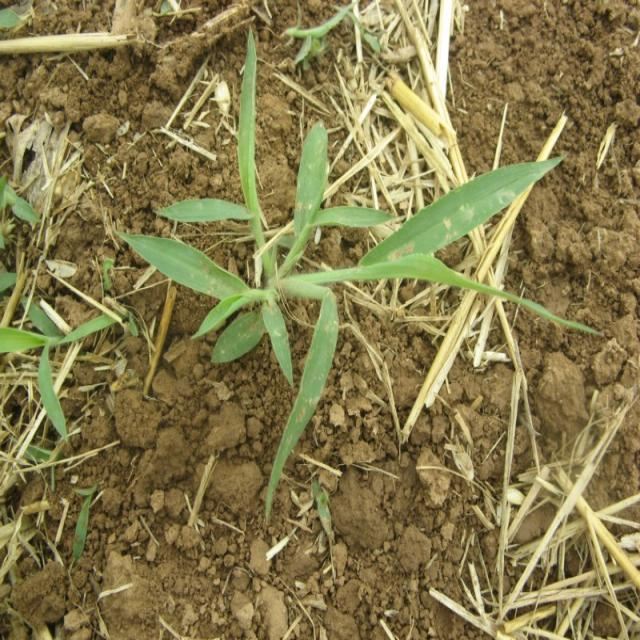bg: (121, 120, 560, 488)
